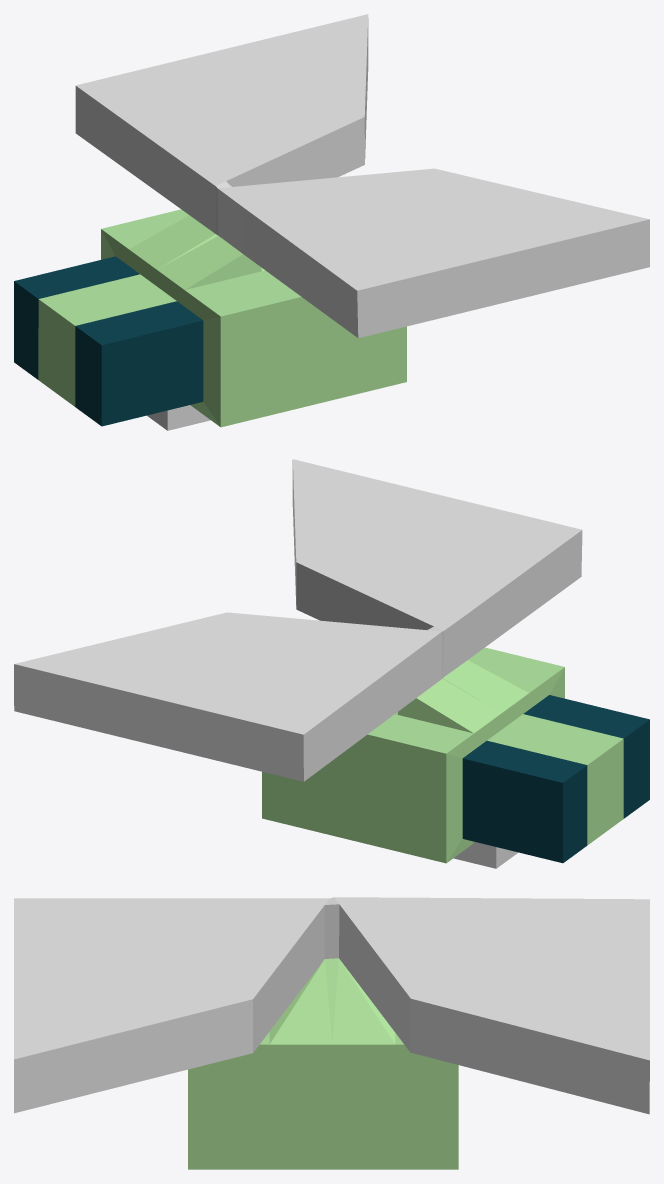
File: Moth.fbx
3 views of the same model, one above another, from view 1: azimuth 30°, elevation 25°; view 2: azimuth 150°, elevation 25°; view 3: azimuth 270°, elevation 25° (orthographic). The views are drawn at different scales.
Parts seen in each view (by area): view 1: Moth.001; view 2: Moth.001; view 3: Moth.001.
Boxes of the visible parts, x1=… form: Moth.001: x1=14, y1=14, x2=649, y2=430; Moth.001: x1=14, y1=459, x2=649, y2=868; Moth.001: x1=14, y1=897, x2=649, y2=1169.
Size of the model in its own units: 67.78 by 28.4 by 72.75.
